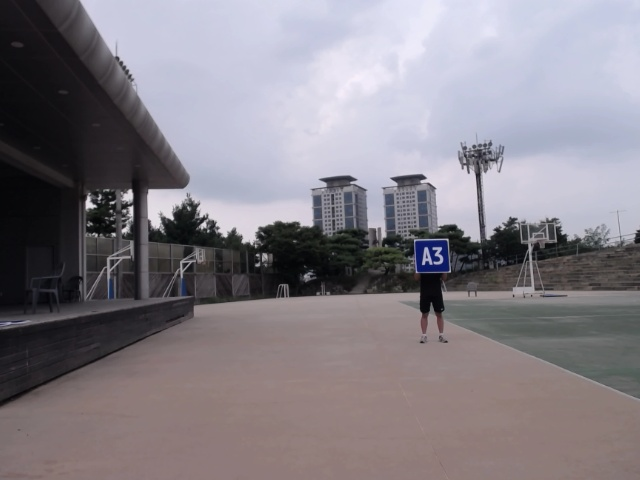delivery_a3: (414, 239, 451, 273)
